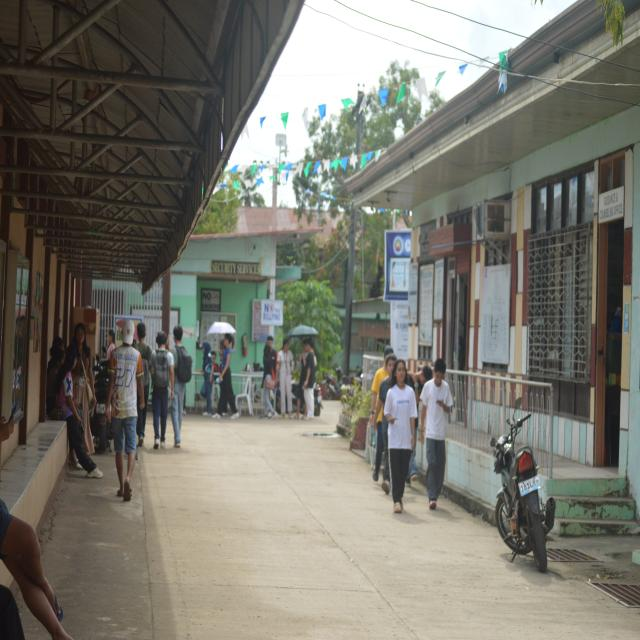person: (0, 500, 70, 639), (106, 320, 143, 501), (55, 344, 102, 478), (384, 360, 417, 513), (421, 359, 453, 509), (373, 353, 397, 494), (369, 346, 392, 481), (72, 323, 95, 454), (150, 332, 174, 449), (172, 325, 192, 447), (212, 334, 239, 419), (136, 323, 152, 446), (277, 338, 293, 414), (262, 336, 276, 418), (301, 339, 315, 419), (201, 342, 213, 416), (106, 329, 115, 360)
